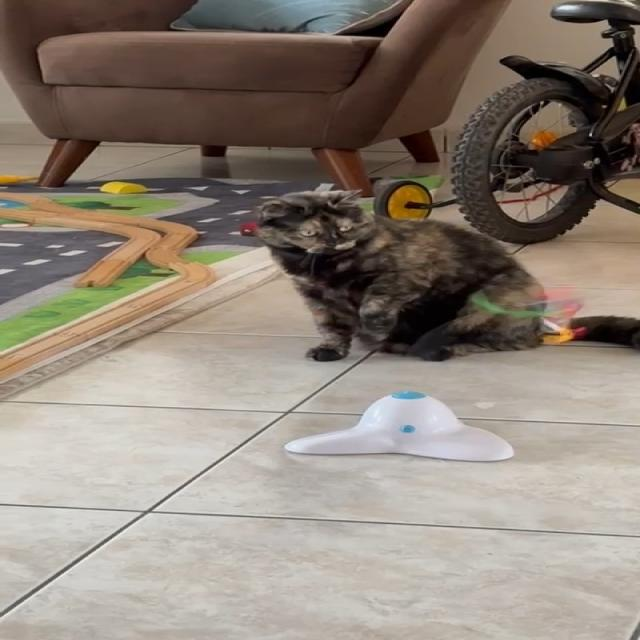authorized: (252, 188, 548, 362)
